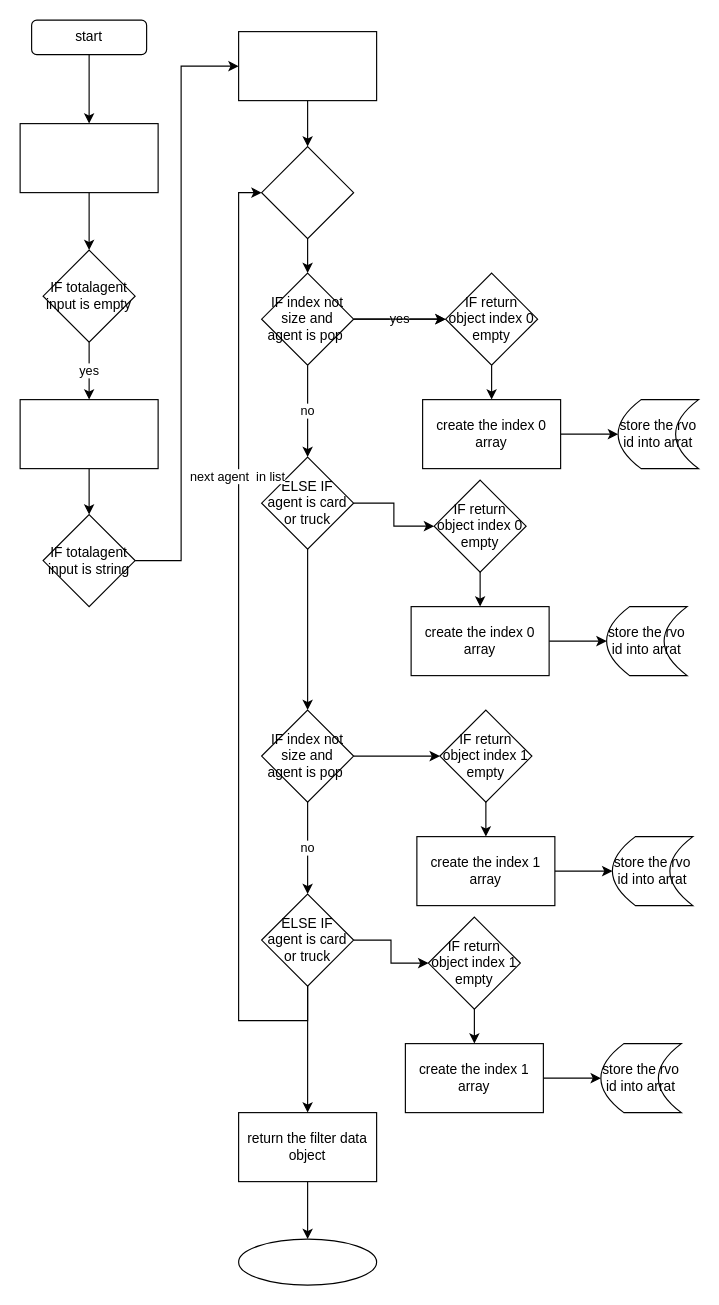
Some shapes in this 719 by 1305 pixel diagram are drawn without their labels. Here are the shapes that lost their labels. From the top down, the centre of each, then its label:
pixel 307 65: convert into json object
pixel 88 157: Initialize the return filter object
pixel 307 192: FOR all sight rng data
pixel 88 433: return the empty filter data object
pixel 307 1261: end
